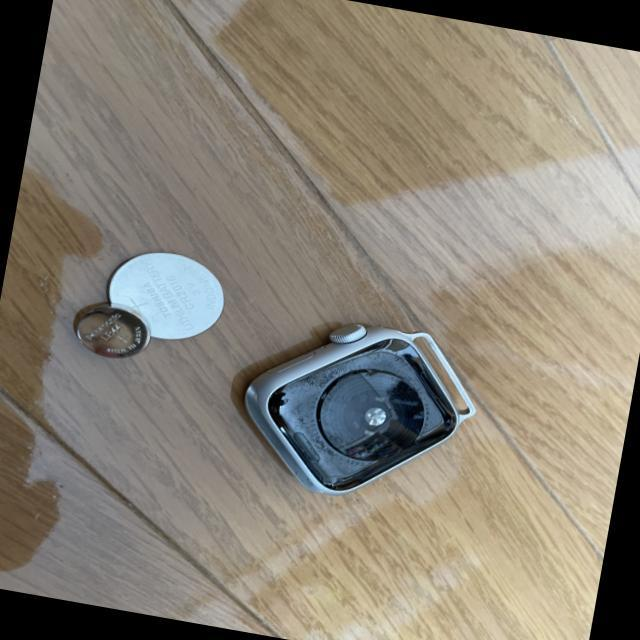COIN: (97, 242, 228, 349), (65, 296, 153, 364)
